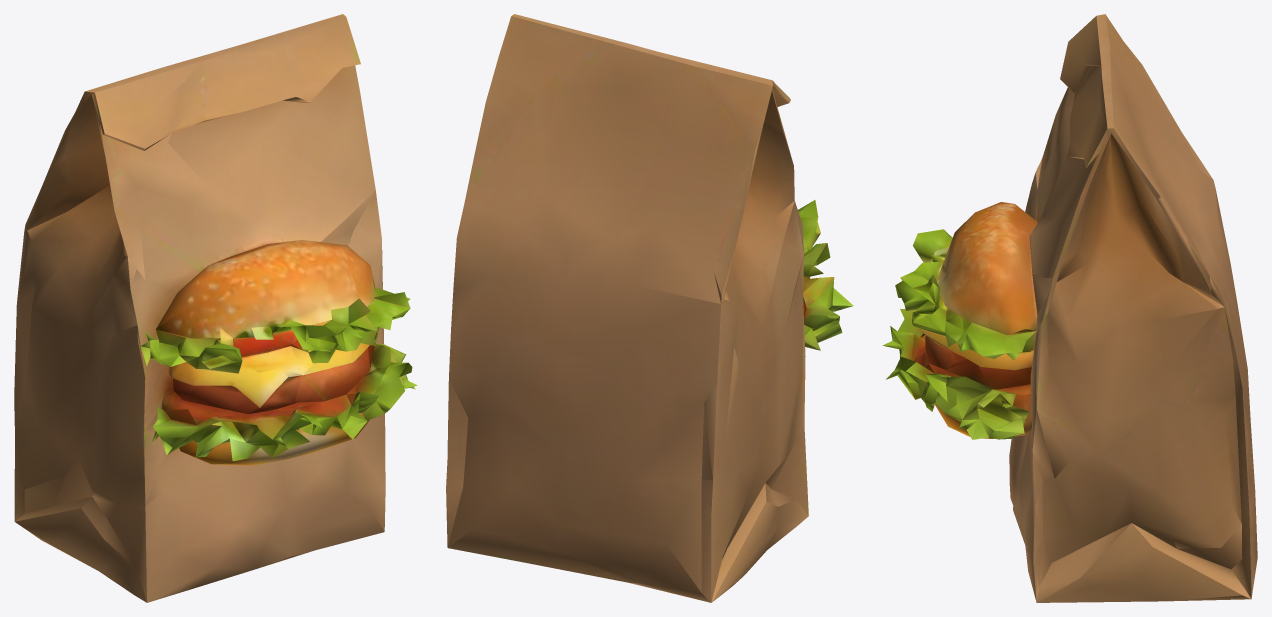
File: burgerBag.glb
3 renders of one model, left to right at view 1: azimuth 30°, elevation 25°; view 2: azimuth 150°, elevation 25°; view 3: azimuth 270°, elevation 25°, orthographic. The views are drawn at different scales.
Visible parts, largest first — view 1: model; view 2: model; view 3: model.
Part boxes in pixels (x1,y1,x2,y2): model: [14, 14, 417, 602]; model: [446, 14, 853, 602]; model: [883, 14, 1257, 602].
Size of the model in its own units: 1.12 by 1.89 by 1.36.
Materials: 1 (1 with a texture image).
